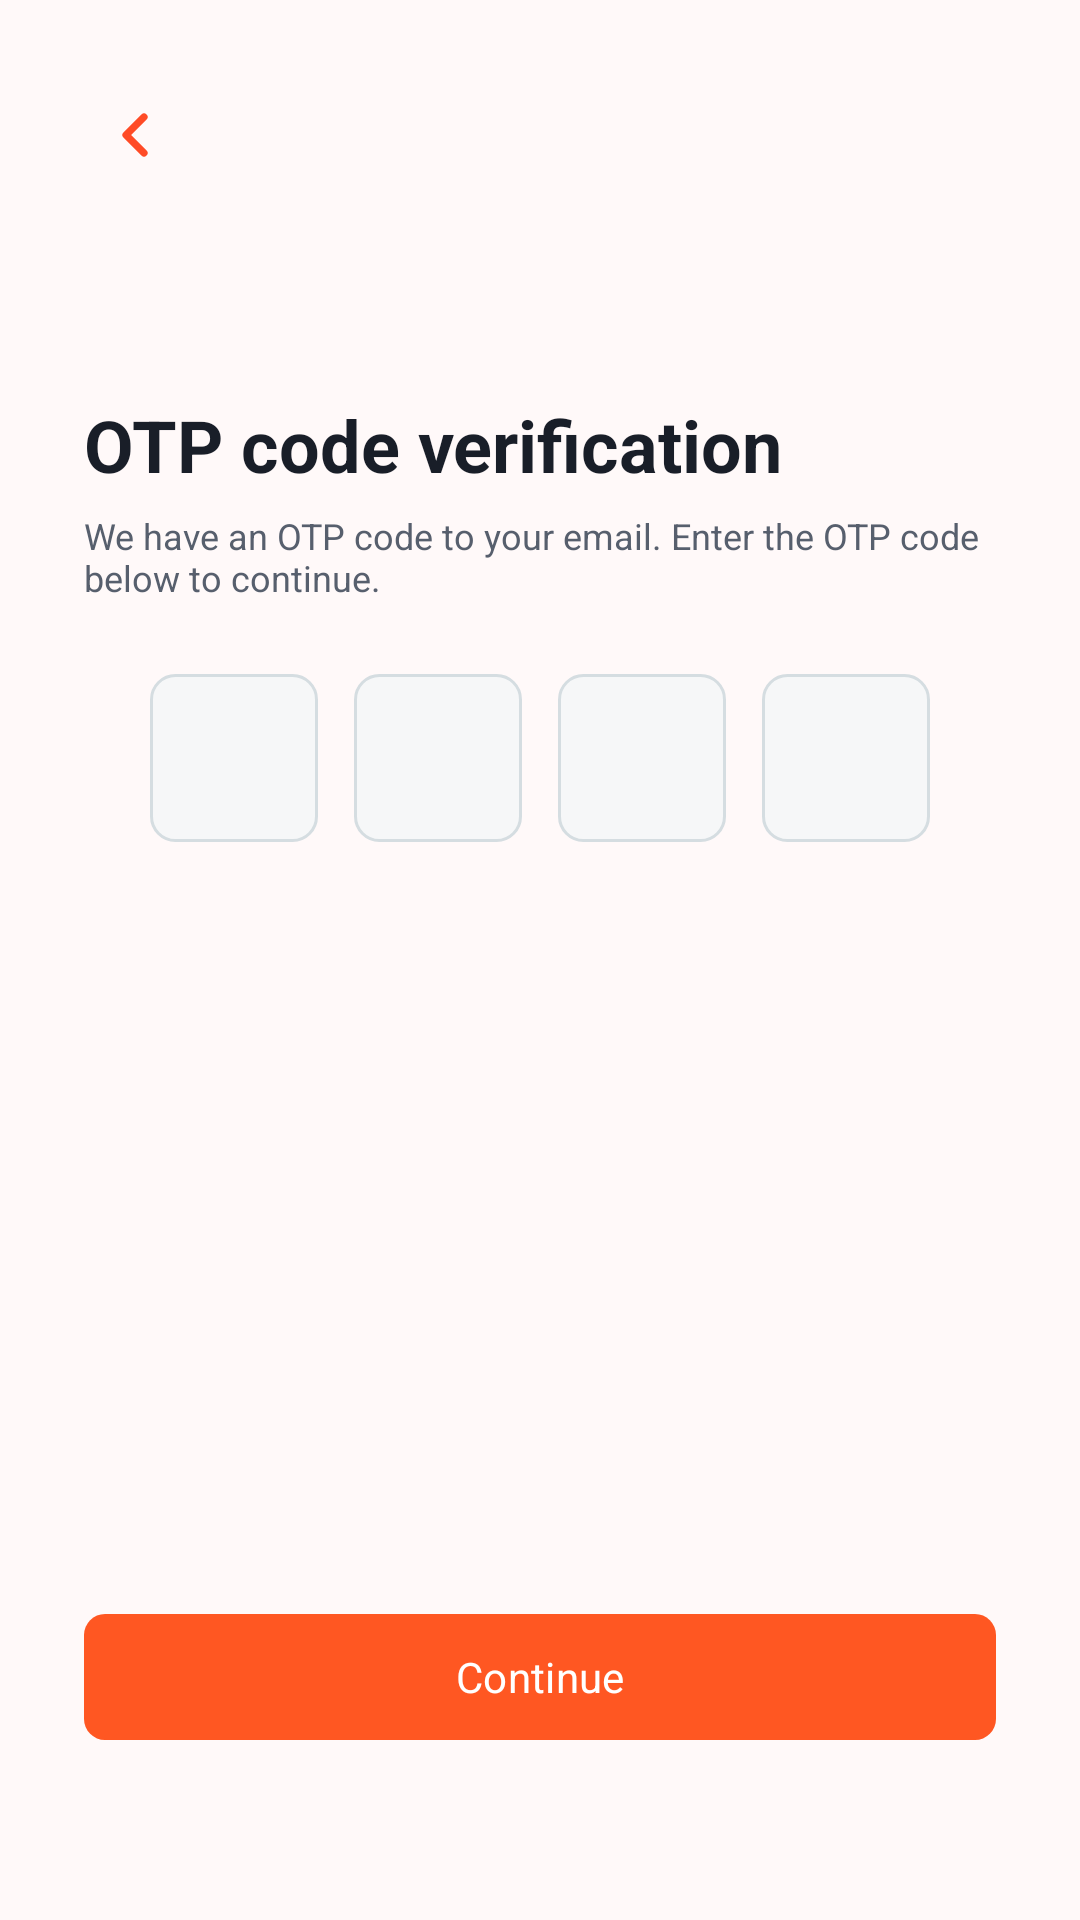

Screen size 1080w x 1920h. Icon name, then its center in pixels as point (x, y):
Kembali: point (135, 135)
